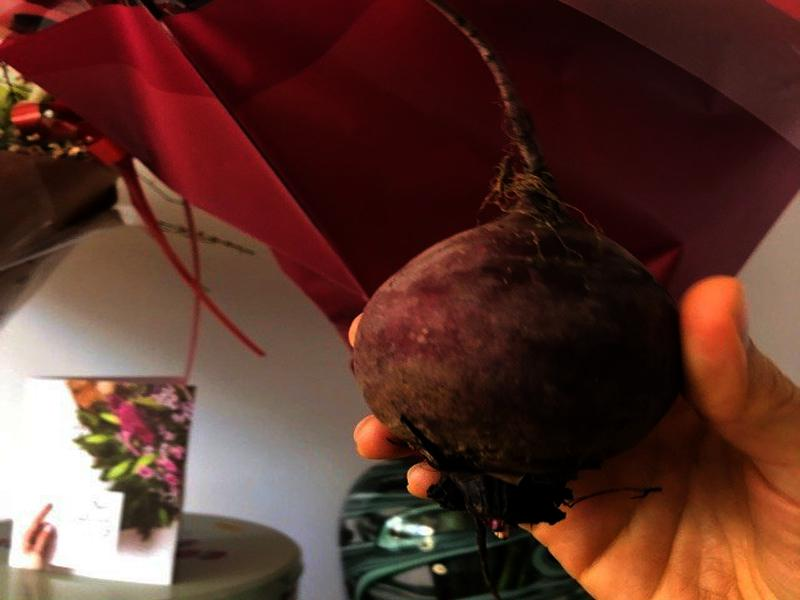Beet: (352, 2, 682, 595)
